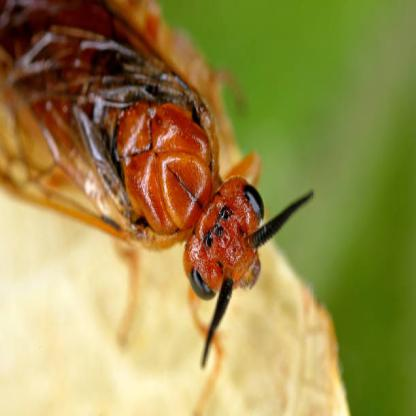sawfly: (0, 0, 318, 373)
